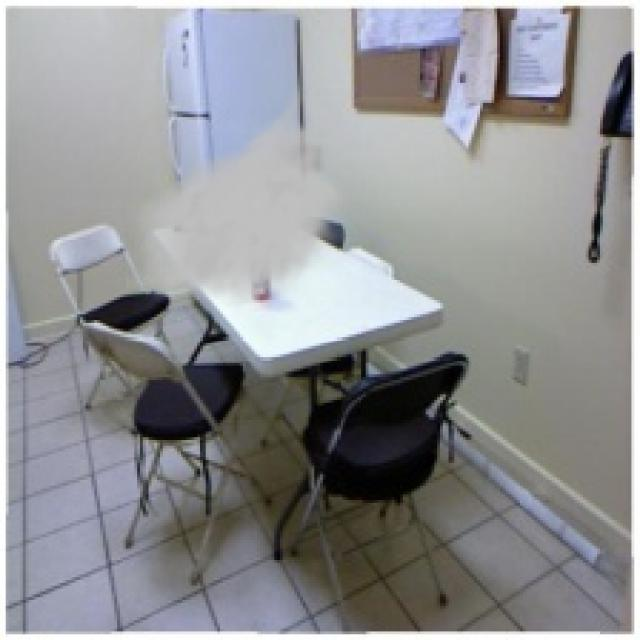smoke: (123, 80, 351, 311)
